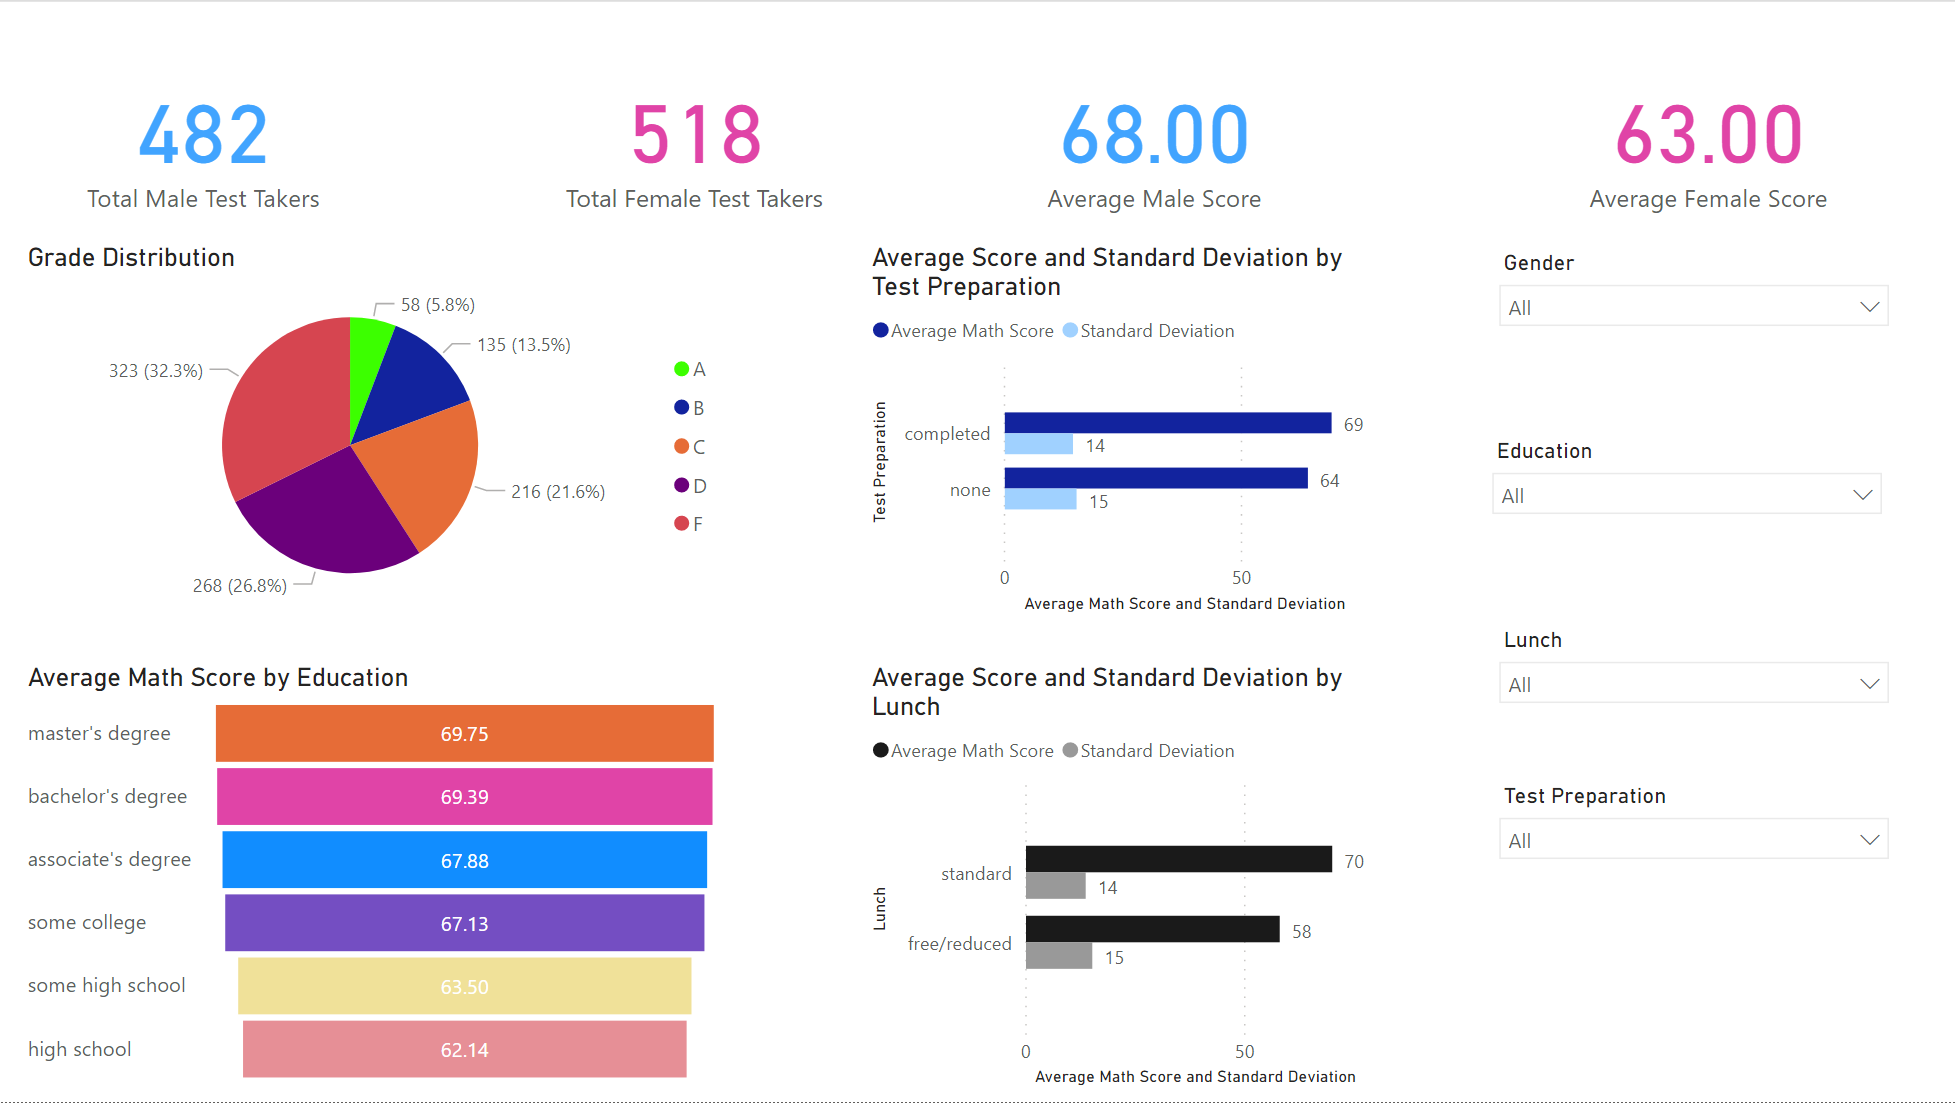

This screenshot's page, from the dashboard's own definition file:
{"tool":"powerbi","page":{"name":"Students Performance","canvas":[1280,720],"ordinal":0},"visuals":[{"type":"card","fields":{"Values":["Sum(Count By Grade.Total)"]},"box":[12.9,23.4,239.8,133.4],"z":0},{"type":"card","fields":{"Values":["Sum(Count By Grade.Total)"]},"box":[343.1,23.4,222.6,133.4],"z":1000},{"type":"card","fields":{"Values":["Avg(Count By Grade.Average Math Score)"]},"box":[640,23.6,231,133.5],"z":2000},{"type":"card","fields":{"Values":["Avg(Count By Grade.Average Math Score)"]},"box":[994,23.6,248,133.5],"z":3000},{"type":"pieChart","title":"Grade Distribution","fields":{"Y":["Sum(Count By Grade.A Total)","Sum(Count By Grade.B Total)","Sum(Count By Grade.C Total)","Sum(Count By Grade.D Total)","Sum(Count By Grade.F Total)"]},"box":[12.9,156.8,464.2,247.2],"z":4000},{"type":"slicer","fields":{"Values":["Count By Grade.gender"]},"box":[970.9,156.8,275.5,71.3],"z":5000},{"type":"clusteredBarChart","title":"Average Score and Standard Deviation by Test Preparation","fields":{"Y":["Sum(Test Preparation.Average Math Score)","Sum(Test Preparation.Standard Deviation)"],"Category":["Test Preparation.test_preparation_course"]},"box":[565.7,156.8,340,247.2],"z":6000},{"type":"clusteredBarChart","title":"Average Score and Standard Deviation by Lunch","fields":{"Y":["Sum(Average By Lunch.Average Math Score)","Sum(Average By Lunch.Standard Deviation)"],"Category":["Average By Lunch.lunch"]},"box":[565.7,431.6,340,281.6],"z":7000},{"type":"slicer","fields":{"Values":["Average By Lunch.lunch"]},"box":[970.9,404,275.5,63.3],"z":8000},{"type":"slicer","fields":{"Values":["Moving Average By Education.parental_level_of_education"]},"box":[966.6,280.4,275.5,62.1],"z":9000},{"type":"slicer","fields":{"Values":["Test Preparation.test_preparation_course"]},"box":[970.9,506,275.5,66.4],"z":10000},{"type":"funnel","title":"Average Math Score by Education","fields":{"Category":["Moving Average By Education.parental_level_of_education"],"Y":["Avg(Moving Average By Education.math_score)"]},"box":[13.1,431.9,464,281.4],"z":11000}]}

Visuals, with their boxes in screenshot pixels (x1, y1, x2, y2), scaled from the page's 1280x720 canvas onto the 1955x1103 screenshot:
card - Sum(Count By Grade.Total): [20,36,386,240]
card - Sum(Count By Grade.Total): [524,36,864,240]
card - Avg(Count By Grade.Average Math Score): [978,36,1330,241]
card - Avg(Count By Grade.Average Math Score): [1518,36,1897,241]
"Grade Distribution" pieChart: [20,240,729,619]
slicer - Count By Grade.gender: [1483,240,1904,349]
"Average Score and Standard Deviation by Test Preparation" clusteredBarChart: [864,240,1383,619]
"Average Score and Standard Deviation by Lunch" clusteredBarChart: [864,661,1383,1093]
slicer - Average By Lunch.lunch: [1483,619,1904,716]
slicer - Moving Average By Education.parental_level_of_education: [1476,430,1897,525]
slicer - Test Preparation.test_preparation_course: [1483,775,1904,877]
"Average Math Score by Education" funnel: [20,662,729,1093]
